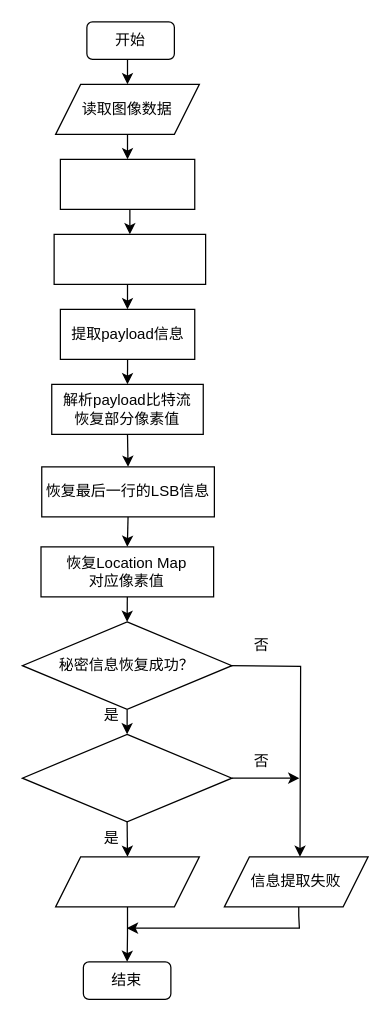
The diagram is 390 pixels wide and 1021 high, and some of its shapes have lost their labels. Each missing label, with the centre of its shape:
"信息提取成功" goes at point 126,881.
"原始图像恢复成功？" goes at point 126,777.
"提取overhead信息" goes at point 127,183.
"解析overhead比特流" goes at point 129,258.
